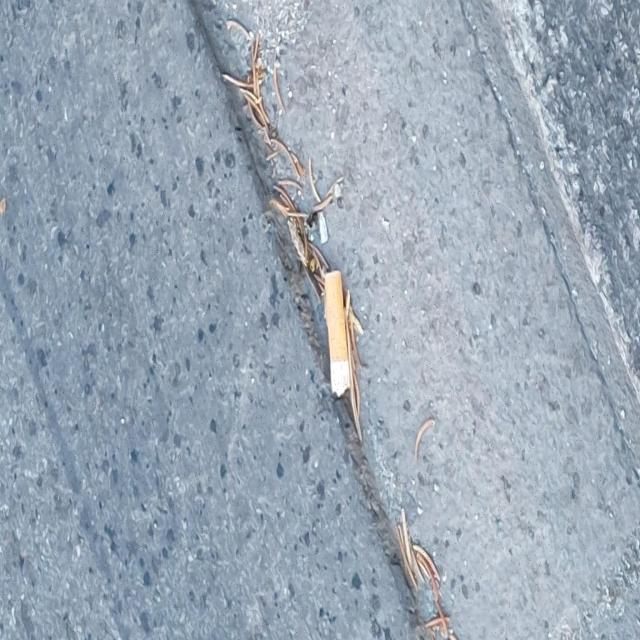other waste: (324, 269, 351, 399)
